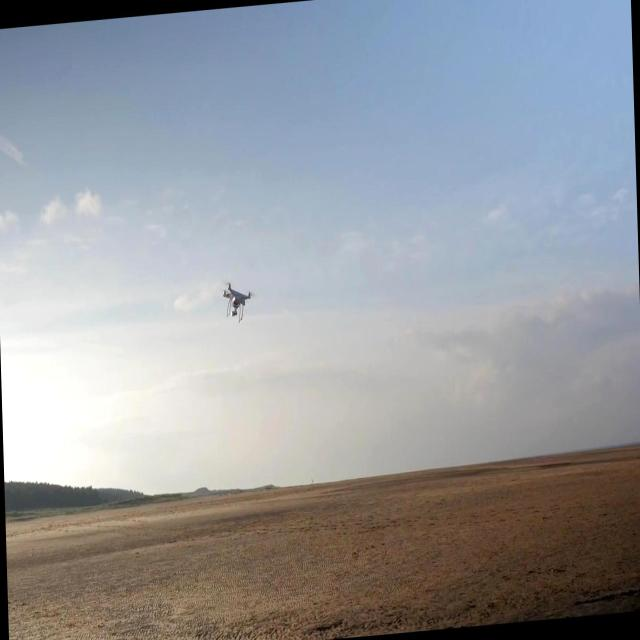drone: (220, 281, 253, 324)
